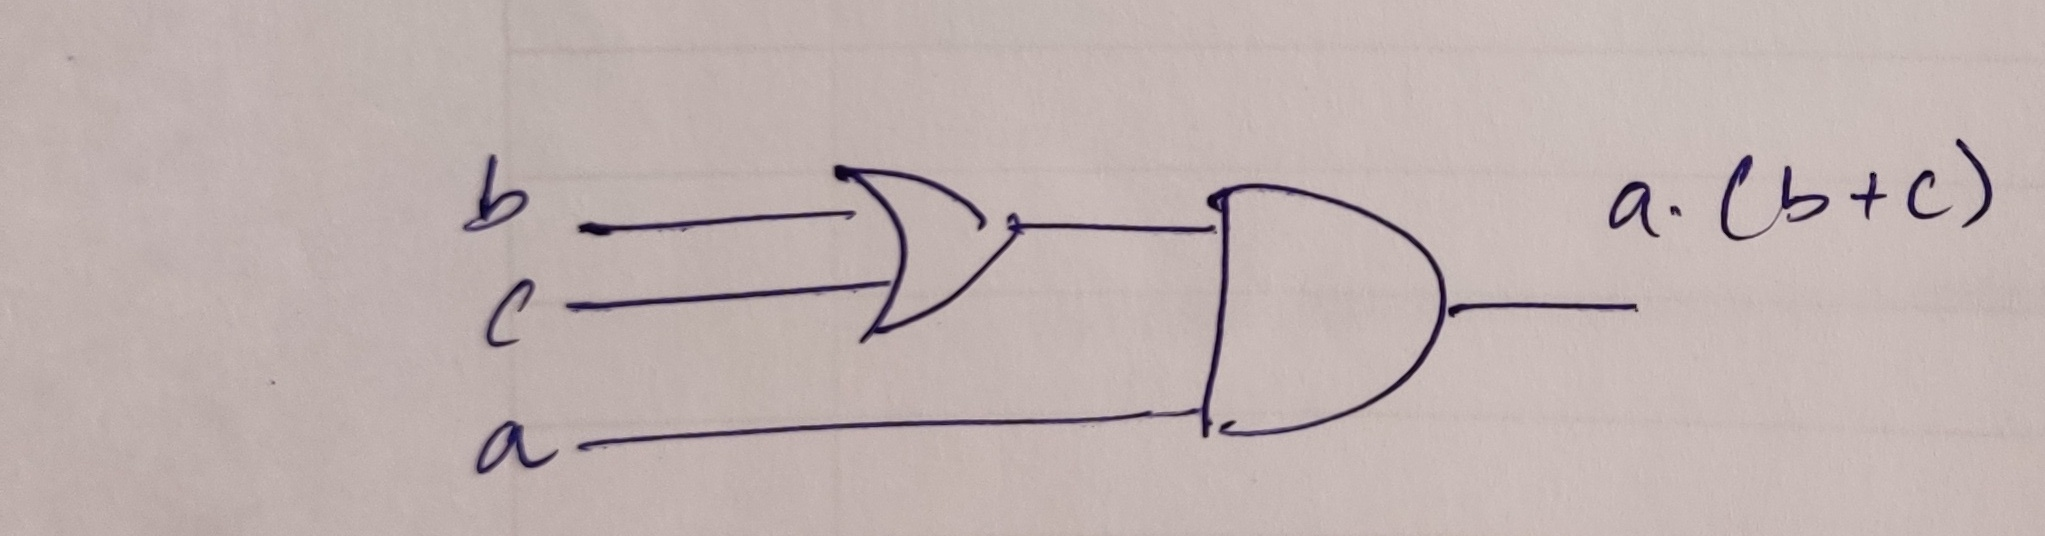and: (1156, 143, 1469, 463)
or: (779, 108, 1050, 356)
